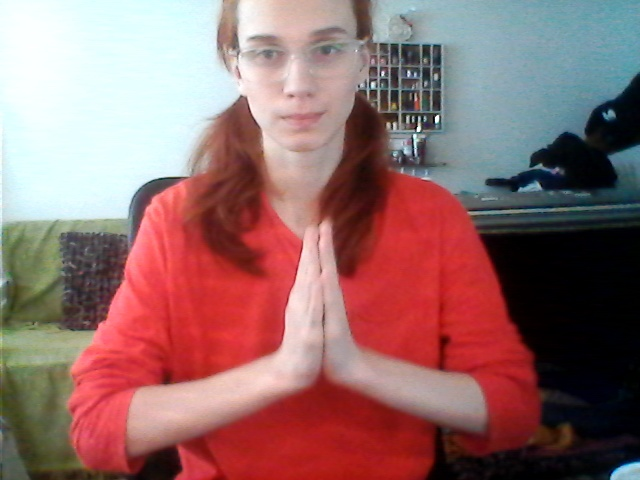prosim: (240, 220, 411, 418)
